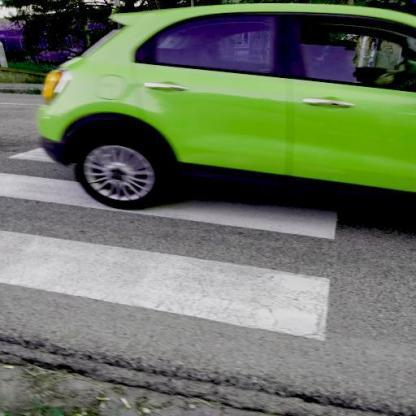crosswalk: (0, 134, 359, 252)
